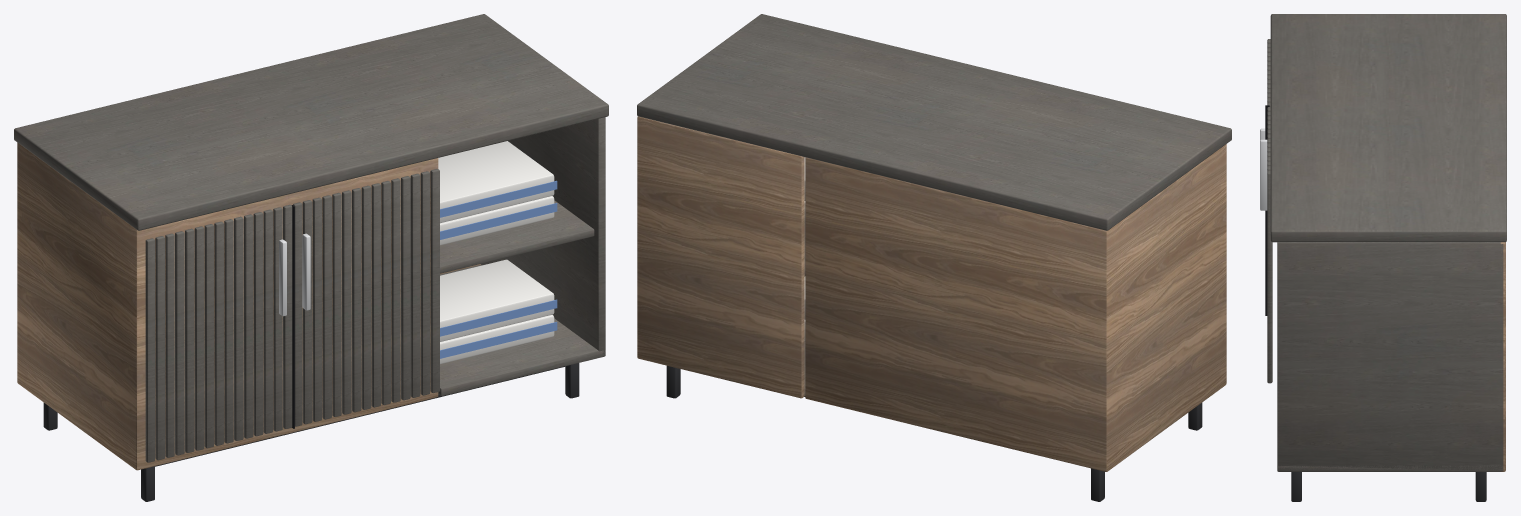
File: mobile-stampante.glb
3 views of the same model, side by side, from view 1: azimuth 30°, elevation 25°; view 2: azimuth 150°, elevation 25°; view 3: azimuth 270°, elevation 25° (orthographic). The views are drawn at different scales.
Visible parts, largest first — view 1: mobile-stampante; view 2: mobile-stampante; view 3: mobile-stampante.
Boxes of the visible parts, x1,y1,x2,y2 form: mobile-stampante: [14, 14, 608, 501]; mobile-stampante: [637, 14, 1231, 501]; mobile-stampante: [1260, 14, 1506, 501].
Size of the model in its own units: 1.2 by 0.72 by 0.575.
Materials: 7 (2 with a texture image).
